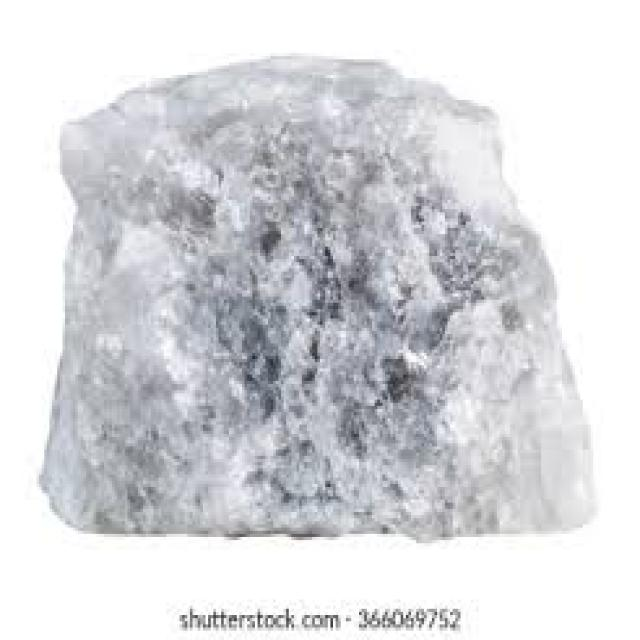Metamorphic: (36, 56, 616, 556)
